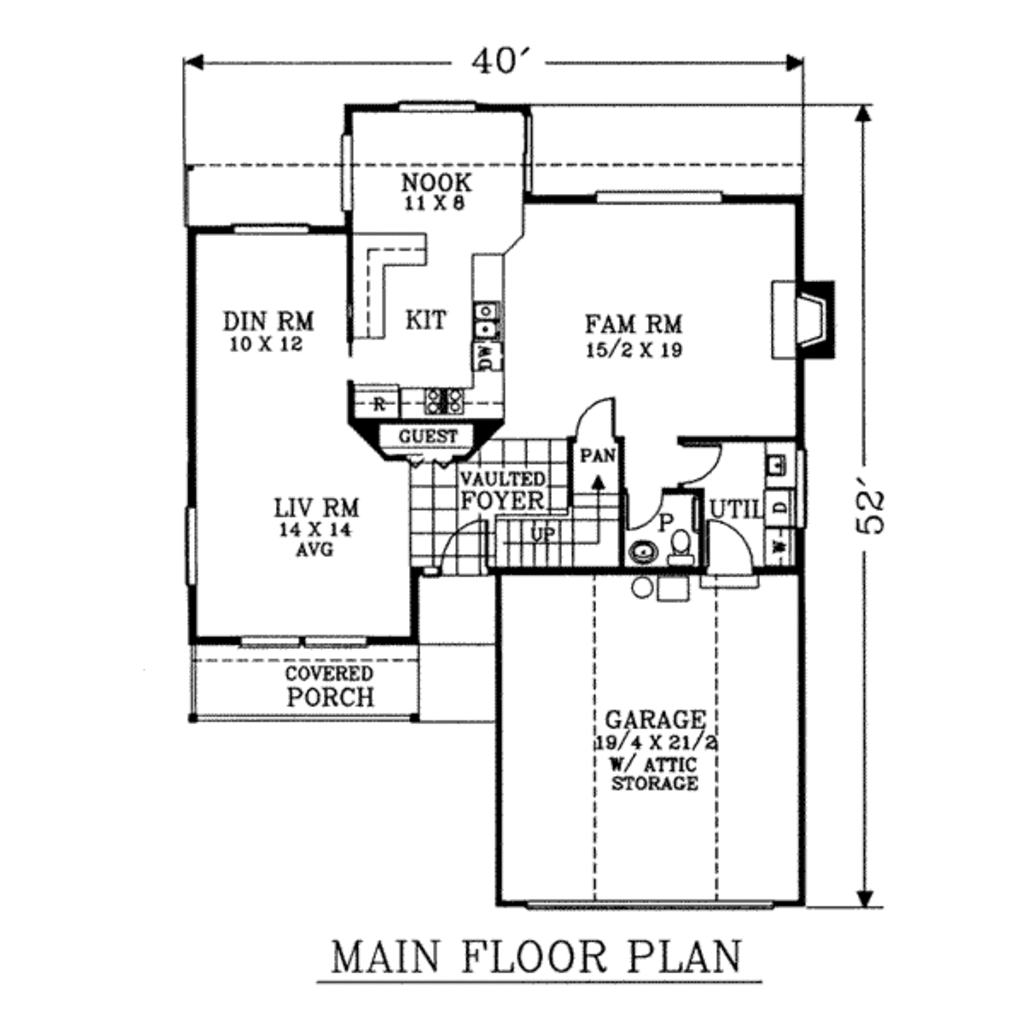door: (701, 513, 764, 581), (437, 519, 502, 580), (680, 430, 736, 495), (571, 389, 625, 446), (618, 483, 667, 529)
large_sink: (671, 521, 709, 570)
small_sink: (626, 530, 669, 565)
stairs: (502, 443, 623, 576)
twin_sink: (461, 302, 520, 338)
window: (239, 632, 374, 653), (336, 126, 366, 214), (591, 189, 726, 207), (180, 508, 202, 589), (231, 218, 310, 238)
